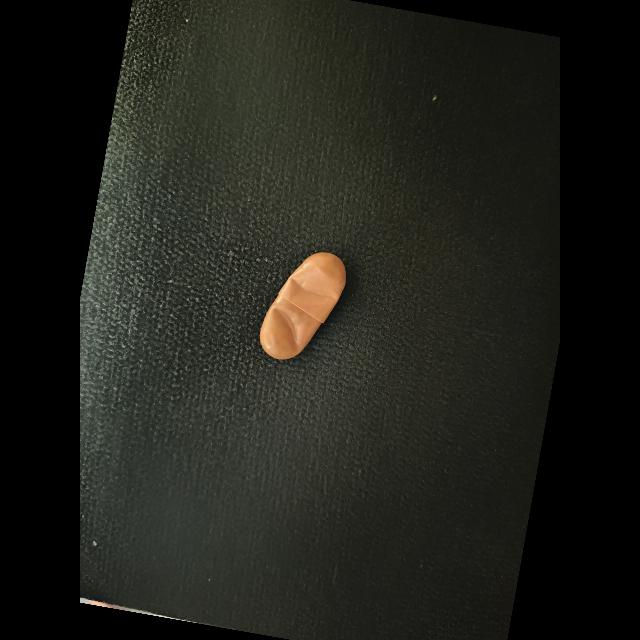Defective Capsule: (289, 260, 340, 306), (271, 305, 303, 352)
